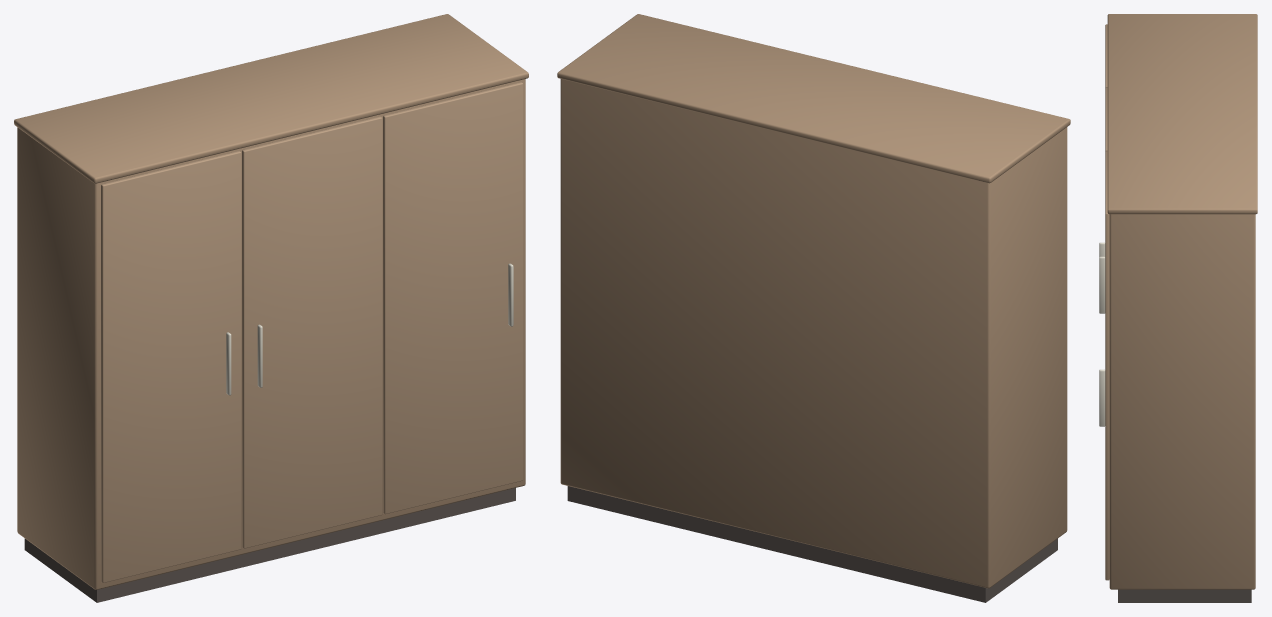
File: wardrobe.glb
3 renders of one model, left to right at view 1: azimuth 30°, elevation 25°; view 2: azimuth 150°, elevation 25°; view 3: azimuth 270°, elevation 25°, orthographic. The views are drawn at different scales.
Parts seen in each view (by area): view 1: Cube.004, Cube.006, Cube.002, Cube, Cube.008, Cube.001; view 2: Cube, Cube.008, Cube.001; view 3: Cube, Cube.008, Cube.006, Cube.001, Cube.005, Cube.007.
Boxes of the visible parts, bbox=[...] form: Cube.004: bbox=[242, 116, 382, 548]; Cube.006: bbox=[383, 82, 523, 514]; Cube.002: bbox=[101, 151, 241, 582]; Cube: bbox=[17, 79, 525, 589]; Cube.008: bbox=[14, 14, 528, 183]; Cube.001: bbox=[24, 488, 515, 602]; Cube: bbox=[560, 79, 1067, 588]; Cube.008: bbox=[557, 14, 1070, 183]; Cube.001: bbox=[567, 486, 1057, 602]; Cube: bbox=[1109, 214, 1255, 589]; Cube.008: bbox=[1107, 14, 1257, 214]; Cube.006: bbox=[1105, 151, 1109, 580]; Cube.001: bbox=[1118, 589, 1251, 602]; Cube.005: bbox=[1099, 256, 1105, 313]; Cube.007: bbox=[1099, 369, 1105, 426].
Size of the model in its own units: 2.22 by 2.1 by 0.76.
